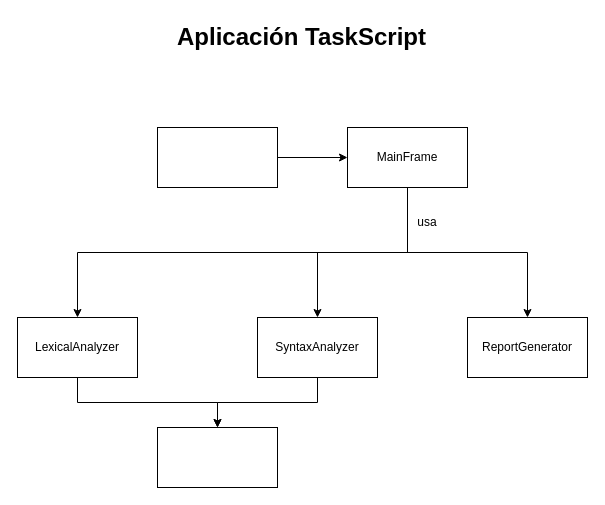
Some shapes in this 605 by 505 pixel diagram are drawn without their labels. Here are the shapes that lost their labels. From the top down, the centre of each, then its label:
the point at 217,157: App
the point at 217,457: ErrorManager
